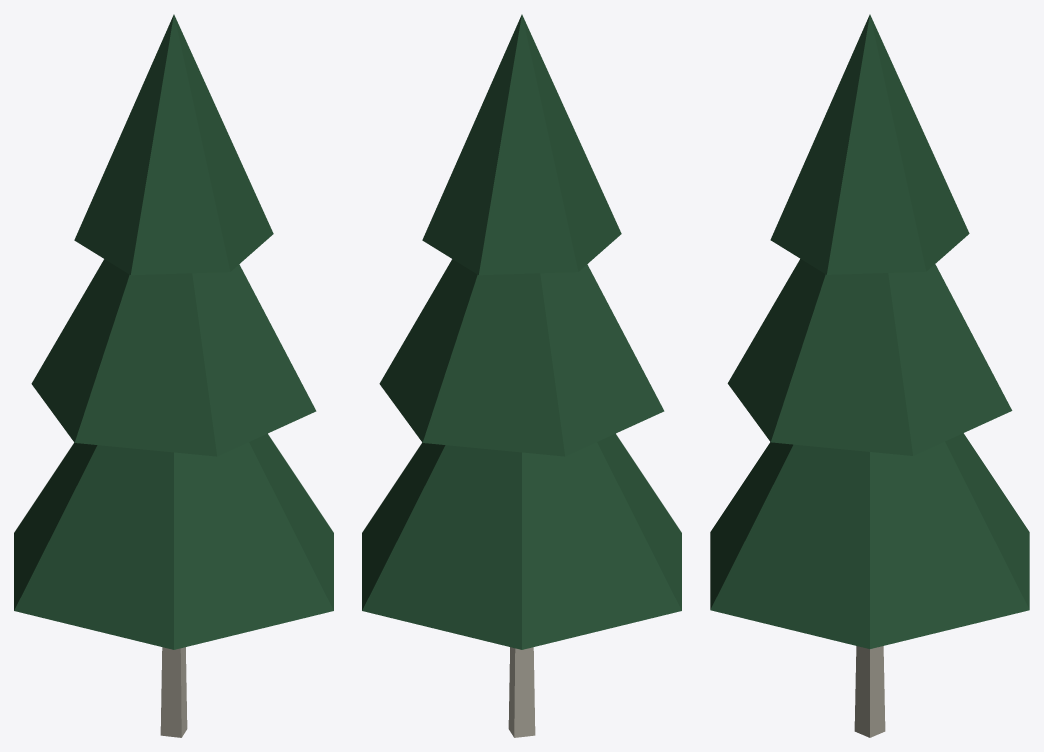
File: tree_cone.glb
The picture shows the model from 3 angles, left to right: view 1: azimuth 30°, elevation 25°; view 2: azimuth 150°, elevation 25°; view 3: azimuth 270°, elevation 25°; orthographic projection.
Visible parts, largest first — view 1: tree_cone; view 2: tree_cone; view 3: tree_cone.
Part boxes in pixels (x1,y1,x2,y2): tree_cone: [14, 14, 333, 737]; tree_cone: [362, 14, 681, 737]; tree_cone: [710, 14, 1029, 737].
Bounding box in the file's own units: 4.8 × 10.3 × 4.16.
Materials: 1 (1 with a texture image).
